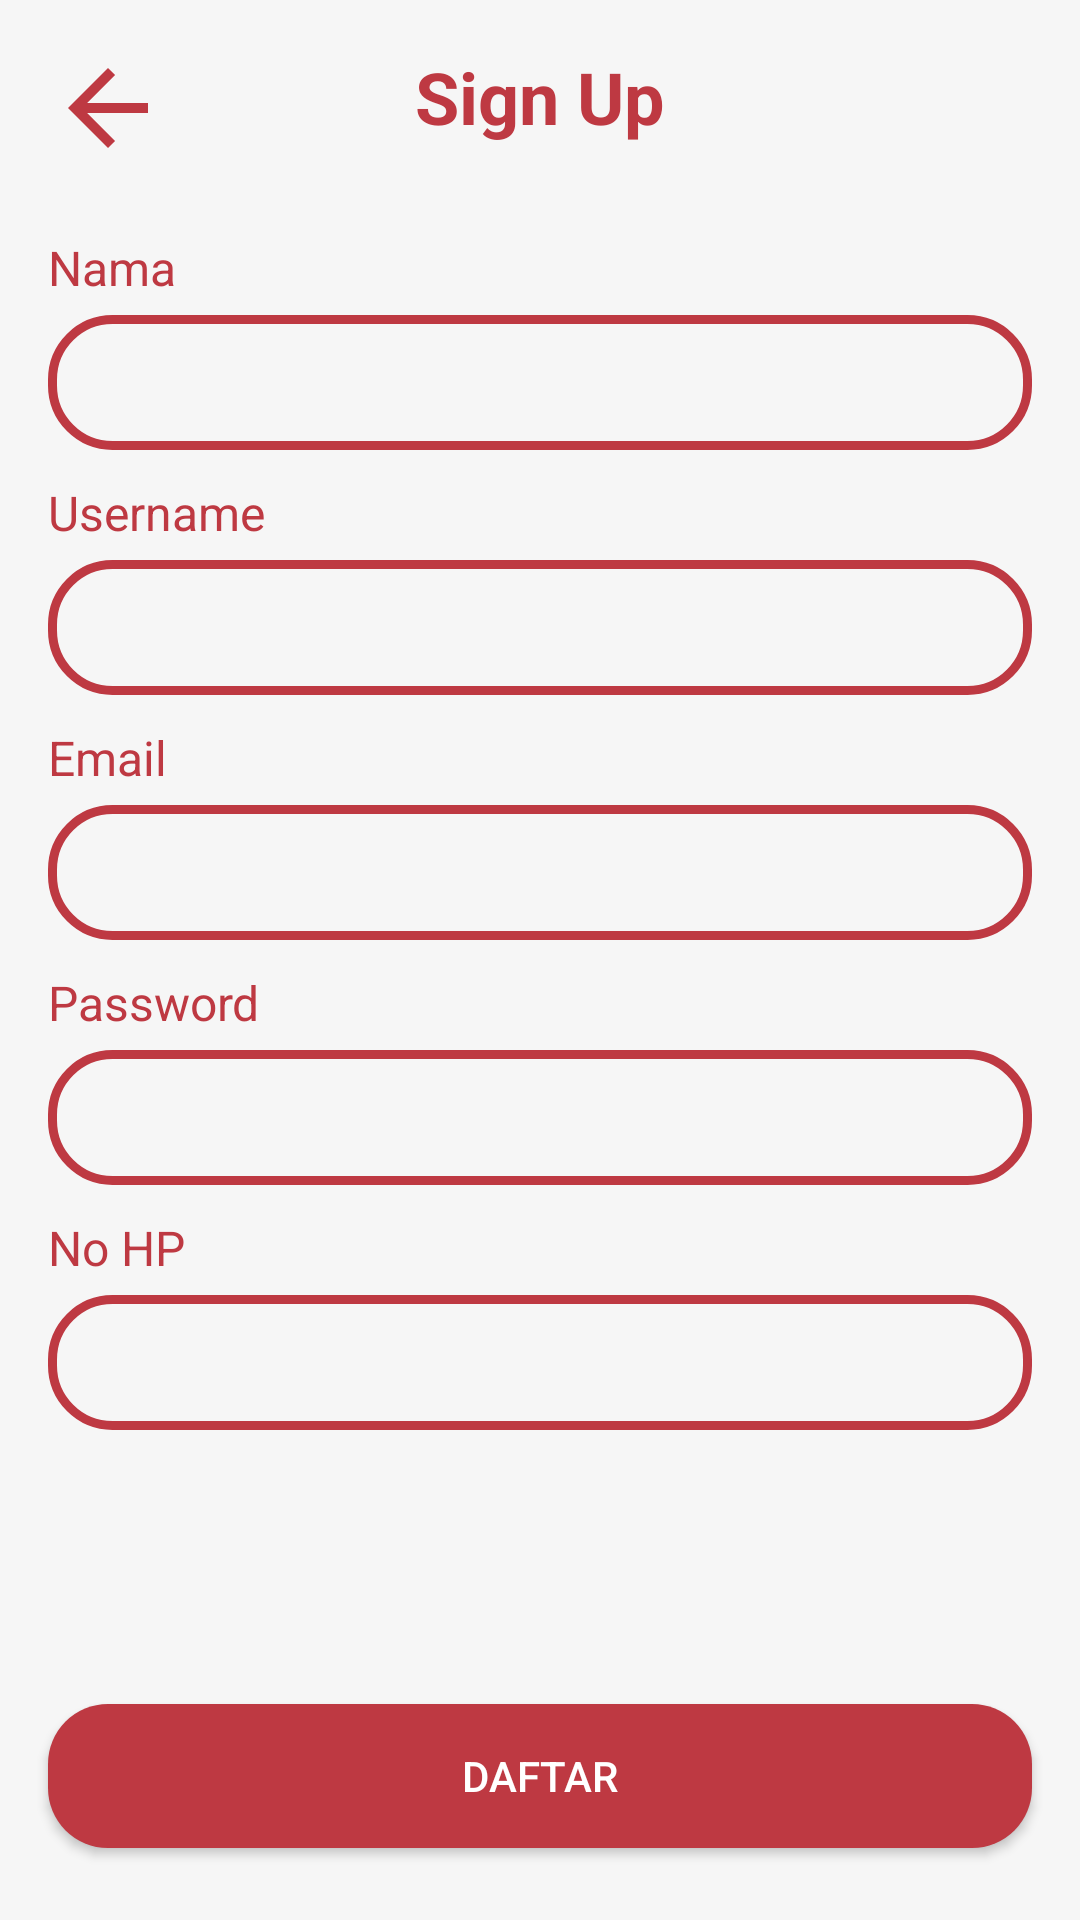

Where to tap for icons on this 1080 x 1920 app screen, as point (x, y):
back: point (108, 108)
